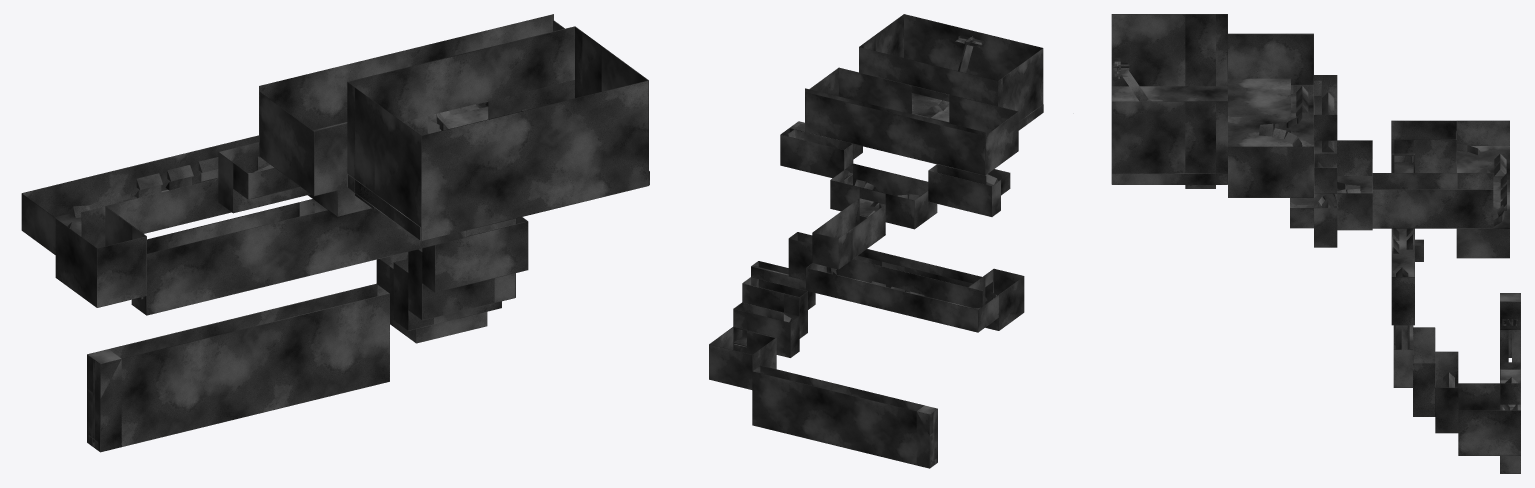
3 views of the same model, side by side, from view 1: azimuth 30°, elevation 25°; view 2: azimuth 150°, elevation 25°; view 3: azimuth 270°, elevation 25° (orthographic). The views are drawn at different scales.
Parts seen in each view (by area): view 1: surf_rebel_resistance_njv2.000; view 2: surf_rebel_resistance_njv2.000; view 3: surf_rebel_resistance_njv2.000.
Part boxes in pixels (<box>): surf_rebel_resistance_njv2.000: <box>21,14,649,452</box>; surf_rebel_resistance_njv2.000: <box>709,14,1043,468</box>; surf_rebel_resistance_njv2.000: <box>1111,14,1520,473</box>.
Bounding box in the file's own units: 19651 × 20364 × 20397.
